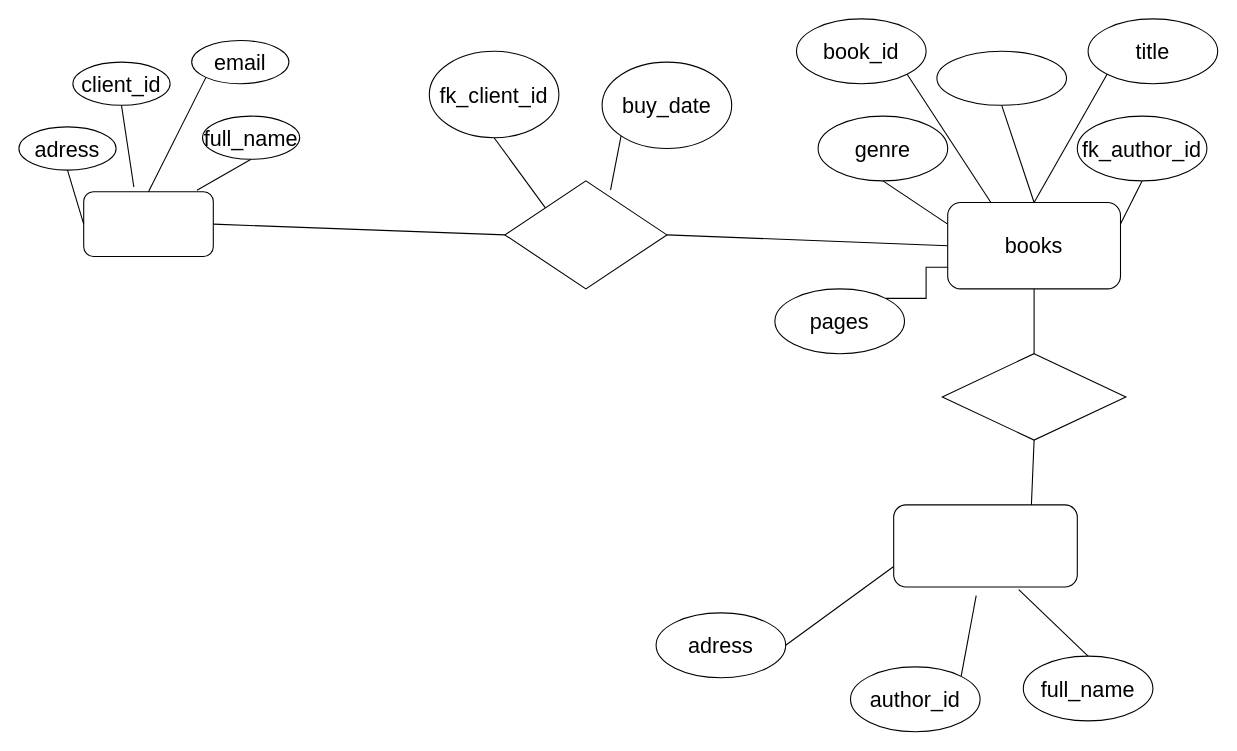
This 1237x751 diagram has some shape labels left out. The box of each missing label's shape, as (x1, y1, x2, y2) in pixels:
author: (893, 504, 1077, 587)
buy: (504, 180, 667, 289)
costumer: (83, 191, 213, 256)
price: (936, 50, 1066, 105)
written: (941, 353, 1126, 440)
